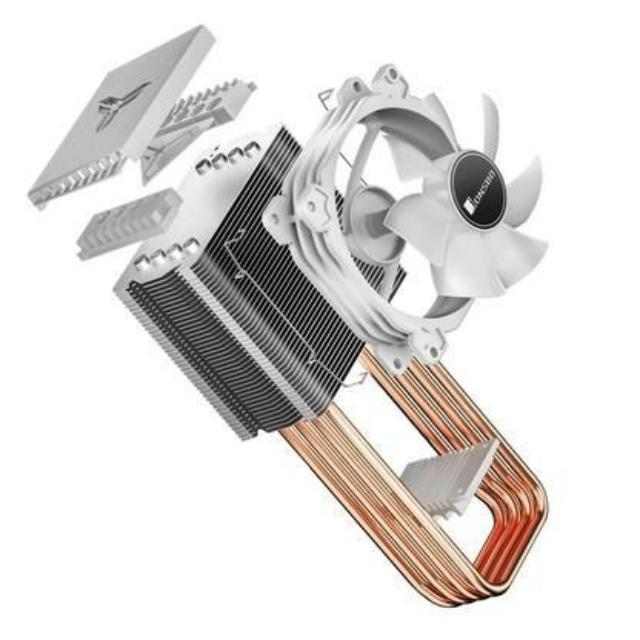CPU_Fan: (20, 8, 589, 618)
